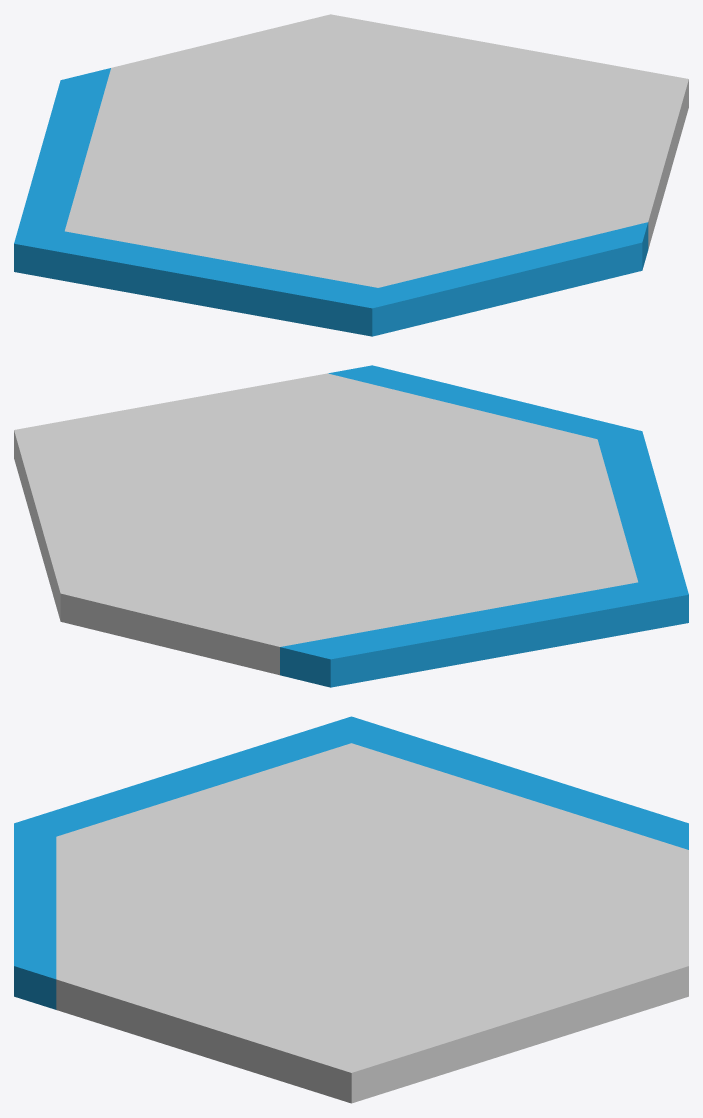
The picture shows the model from 3 angles, top to bottom: view 1: azimuth 30°, elevation 25°; view 2: azimuth 150°, elevation 25°; view 3: azimuth 270°, elevation 25°; orthographic projection. The views are drawn at different scales.
Parts seen in each view (by area): view 1: Hexagon, SWx, S.001, NW; view 2: Hexagon, NW, SWx, S.001; view 3: Hexagon, NW, SWx, S.001.
Part boxes in pixels (x1,y1,x2,y2): Hexagon: [65, 14, 688, 287]; SWx: [14, 231, 377, 336]; S.001: [372, 222, 648, 336]; NW: [14, 68, 110, 243]; Hexagon: [14, 373, 637, 675]; NW: [280, 582, 688, 687]; SWx: [597, 431, 688, 594]; S.001: [328, 365, 641, 439]; Hexagon: [56, 743, 688, 1103]; NW: [351, 716, 688, 849]; SWx: [14, 716, 351, 836]; S.001: [14, 823, 56, 1009].
Bounding box in the file's own units: 5 × 4 × 0.2.
